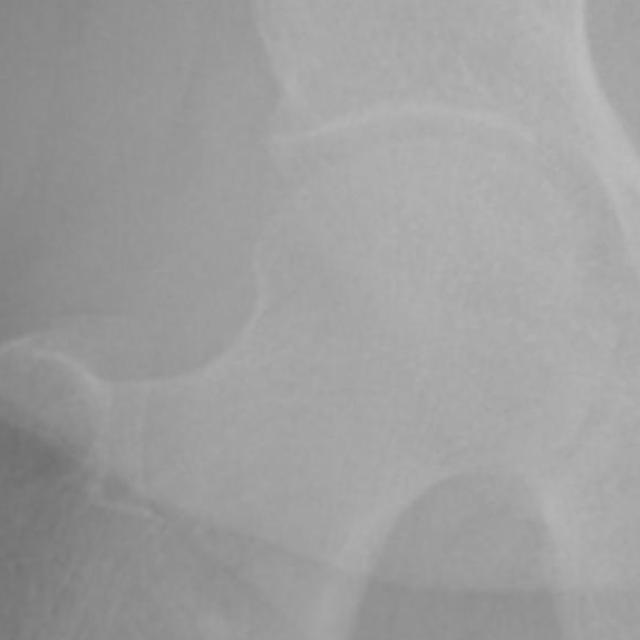Fitted_femural_head: (368, 138, 432, 368)
